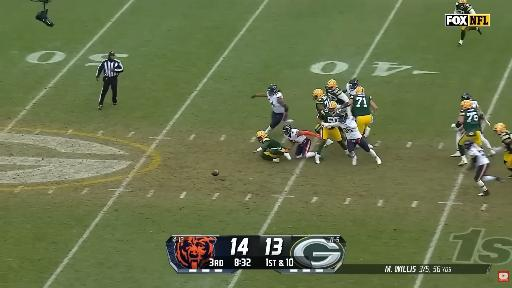Helmet: (347, 77, 359, 90), (326, 101, 337, 115), (266, 85, 280, 95), (494, 123, 506, 134), (464, 140, 474, 150), (313, 88, 323, 98), (460, 101, 471, 110), (327, 79, 336, 90), (339, 111, 347, 122), (461, 93, 473, 100), (256, 131, 266, 139), (356, 86, 364, 95), (284, 125, 292, 134), (458, 0, 466, 8)
Jersey: (460, 107, 479, 132), (467, 144, 489, 165), (341, 117, 362, 139), (351, 94, 371, 117), (326, 87, 348, 104), (318, 108, 342, 123), (267, 92, 284, 113), (286, 129, 306, 143), (262, 137, 281, 151), (315, 94, 329, 113), (500, 131, 511, 154), (454, 3, 475, 14), (346, 83, 356, 97), (471, 100, 478, 109)
Player: (323, 112, 381, 165), (464, 139, 502, 195), (315, 102, 348, 163), (252, 84, 292, 133), (342, 87, 378, 137), (455, 100, 481, 165), (283, 125, 321, 158), (254, 131, 291, 162), (461, 93, 490, 131), (494, 123, 511, 172), (326, 79, 348, 105), (458, 27, 481, 45), (313, 89, 329, 113), (343, 79, 358, 97)
